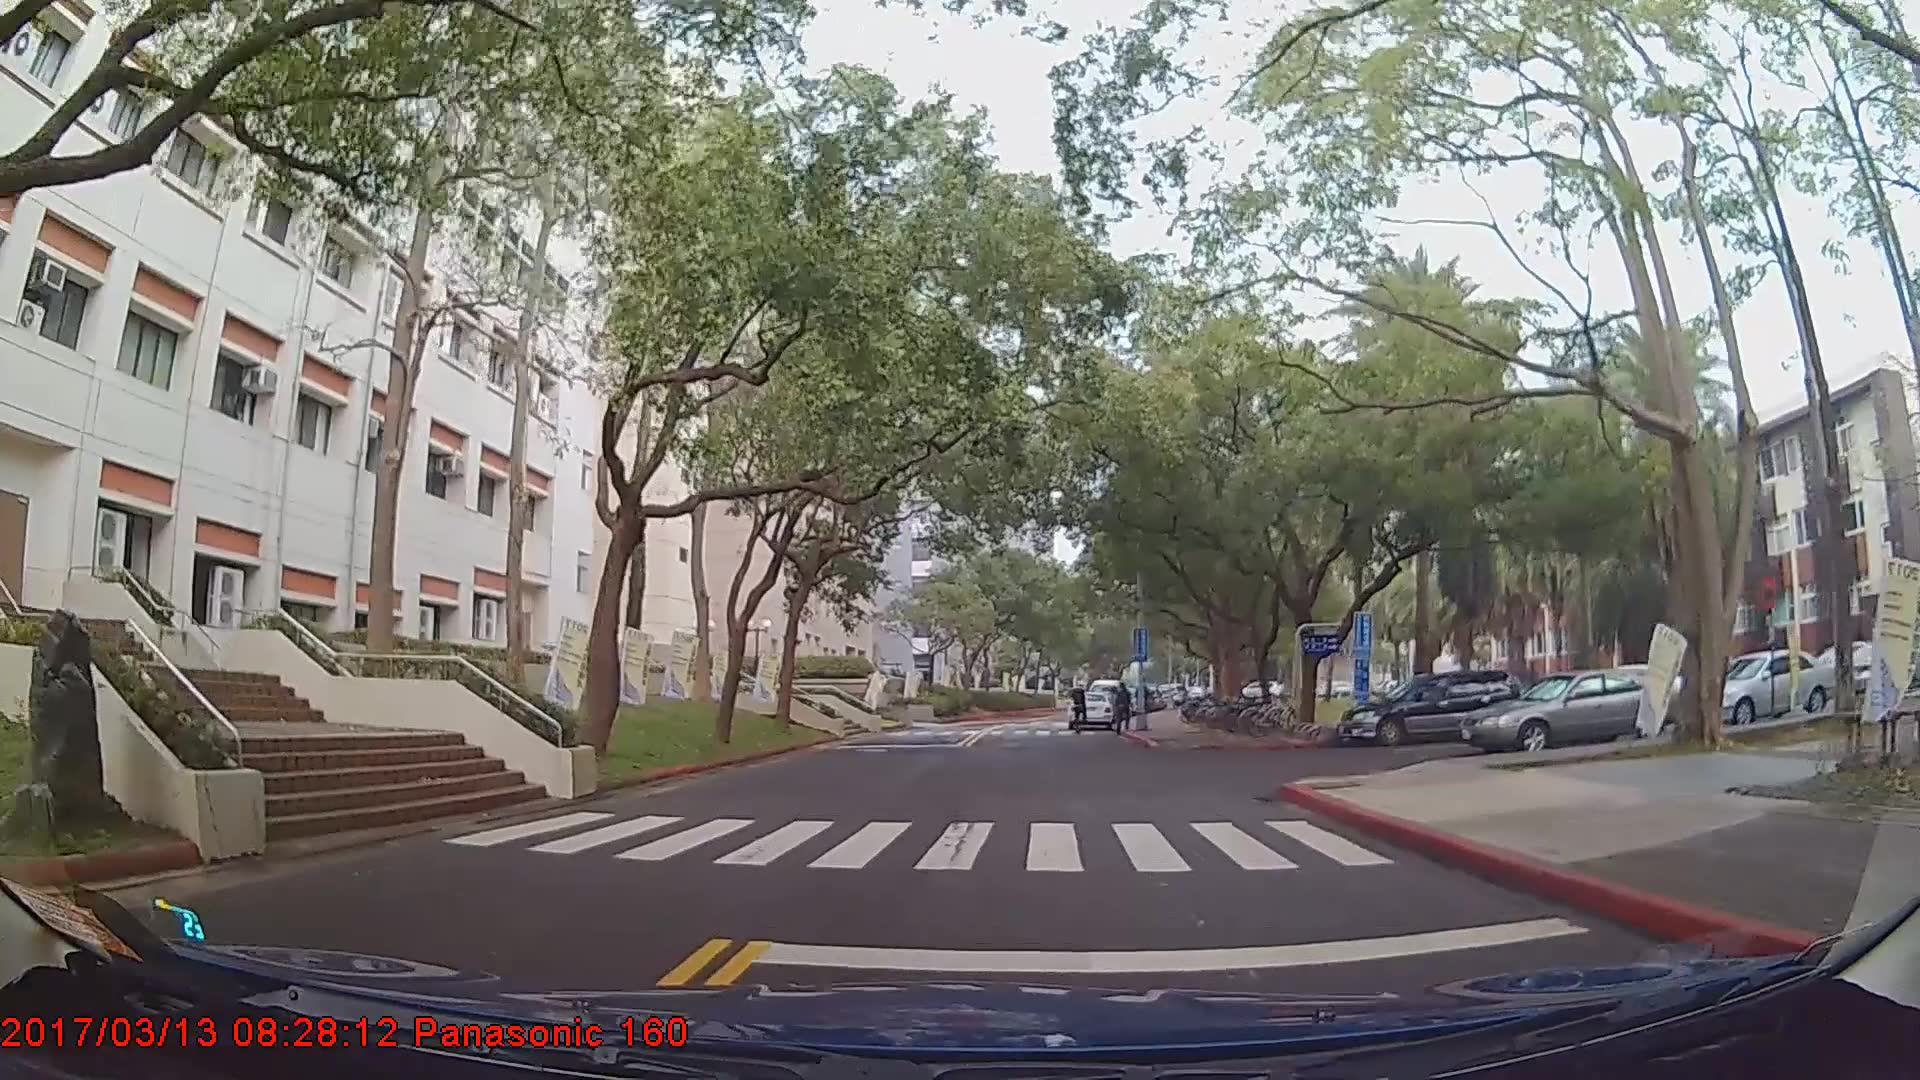pedestrian: (1113, 682, 1138, 733), (1072, 684, 1092, 736)
vehicle: (1461, 666, 1678, 756), (1335, 667, 1519, 748), (1699, 648, 1841, 726), (1065, 689, 1115, 730)
